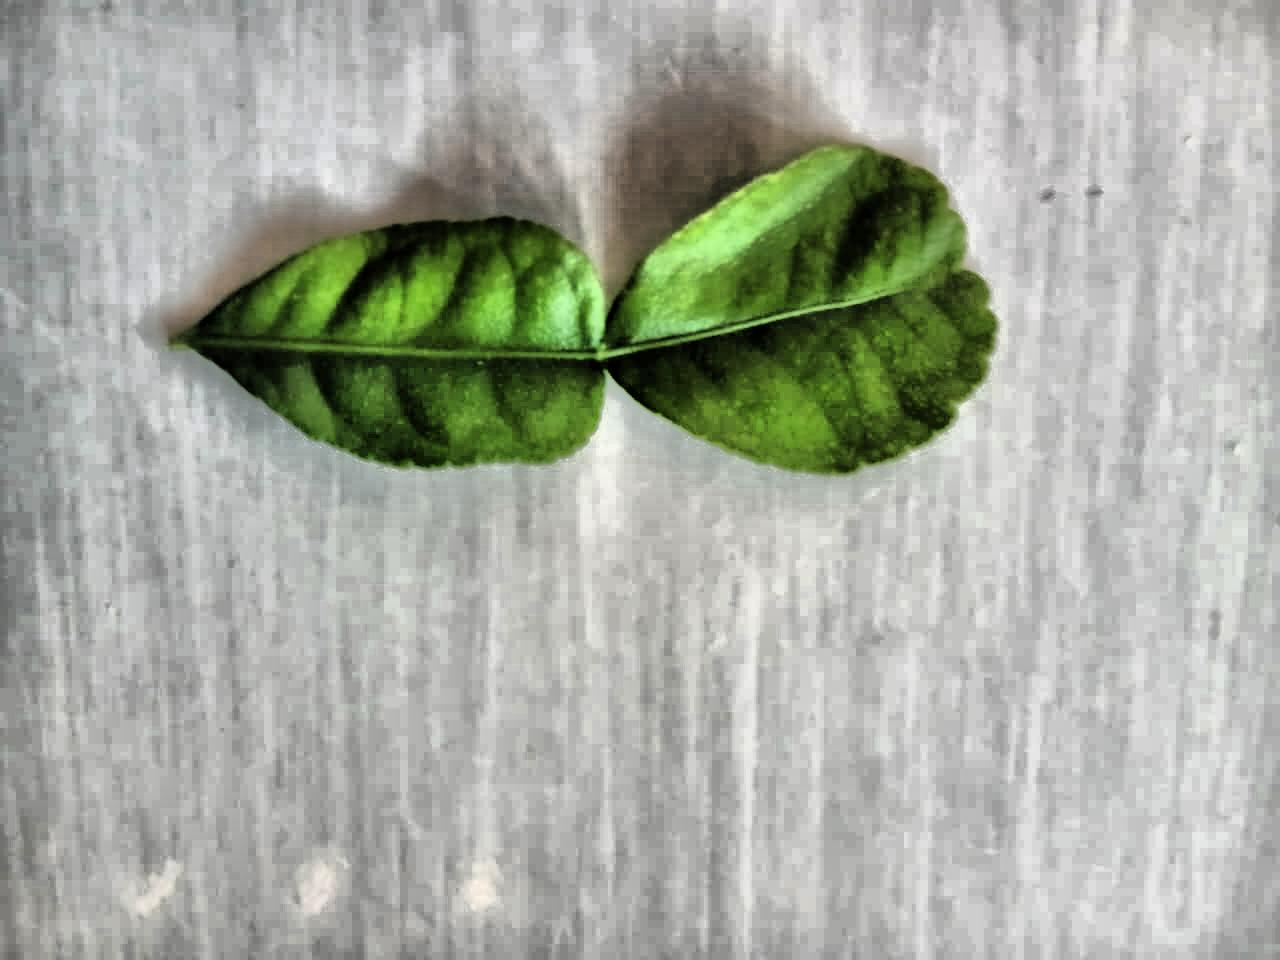daun jeruk: (171, 145, 996, 474)
